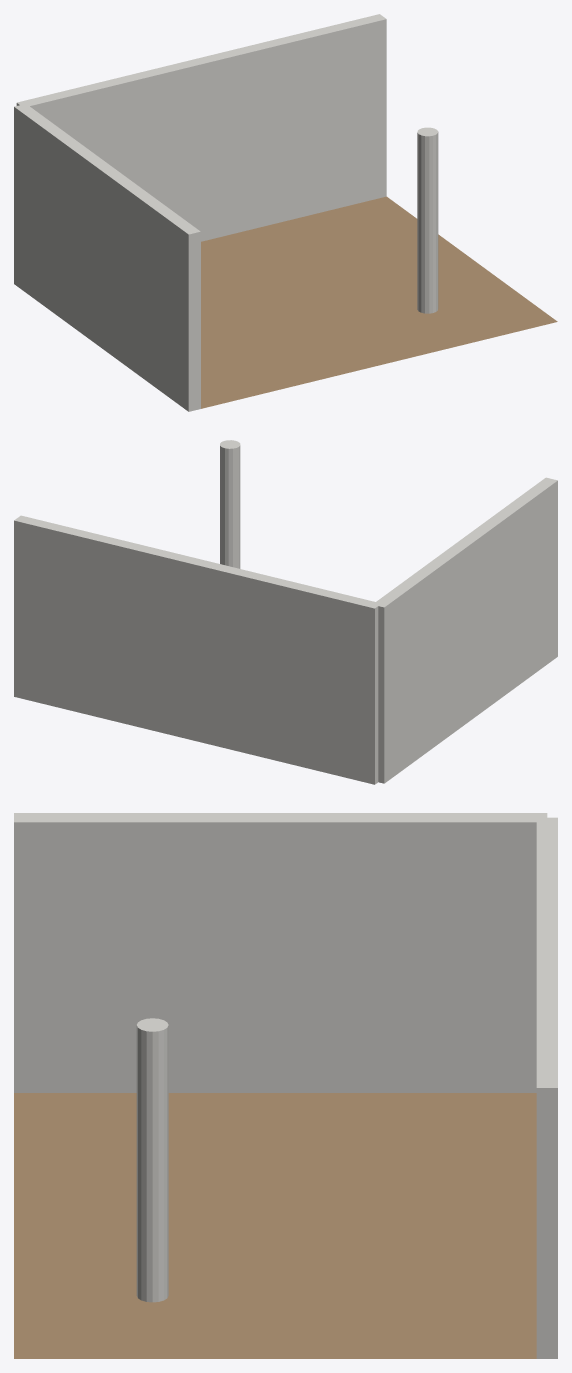
File: s1-room.glb
3 views of the same model, one above another, from view 1: azimuth 30°, elevation 25°; view 2: azimuth 150°, elevation 25°; view 3: azimuth 270°, elevation 25° (orthographic). The views are drawn at different scales.
Visible parts, largest first — view 1: Wall_N, Floor, Wall_W, Column; view 2: Wall_N, Wall_W, Column; view 3: Wall_W, Floor, Wall_N, Column.
Boxes of the visible parts, left/top/right/bottom form: Wall_N: left=16, top=14, right=386, bottom=241; Floor: left=201, top=196, right=557, bottom=408; Wall_W: left=14, top=104, right=200, bottom=411; Column: left=417, top=127, right=438, bottom=313; Wall_N: left=14, top=515, right=381, bottom=784; Wall_W: left=372, top=477, right=557, bottom=783; Column: left=220, top=440, right=240, bottom=568; Wall_W: left=14, top=813, right=547, bottom=1092; Floor: left=14, top=1093, right=536, bottom=1358; Wall_N: left=536, top=817, right=557, bottom=1358; Column: left=136, top=1018, right=168, bottom=1302.
Size of the model in its own units: 6.1 by 2.8 by 5.1.
